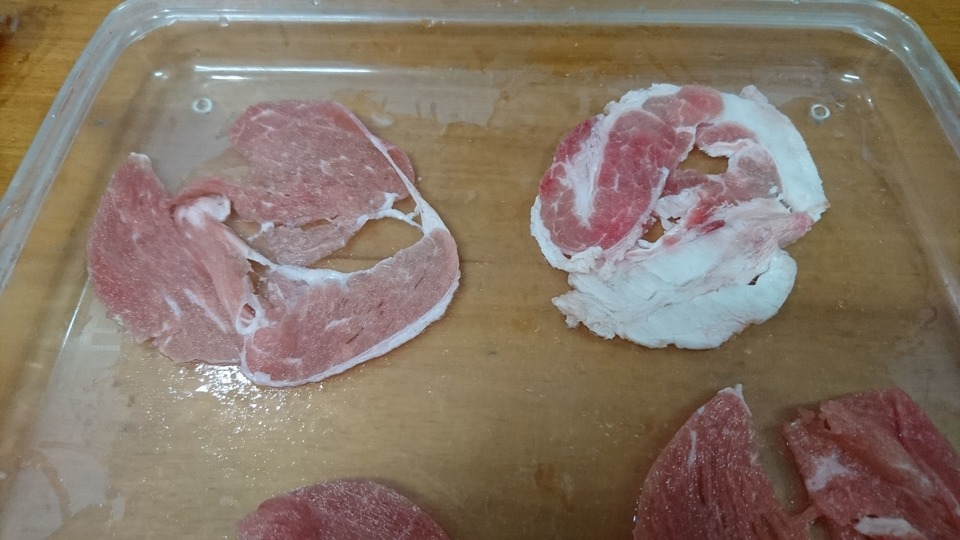restructured meat: (114, 100, 471, 396), (525, 86, 815, 349), (622, 373, 952, 540), (212, 468, 448, 540)
